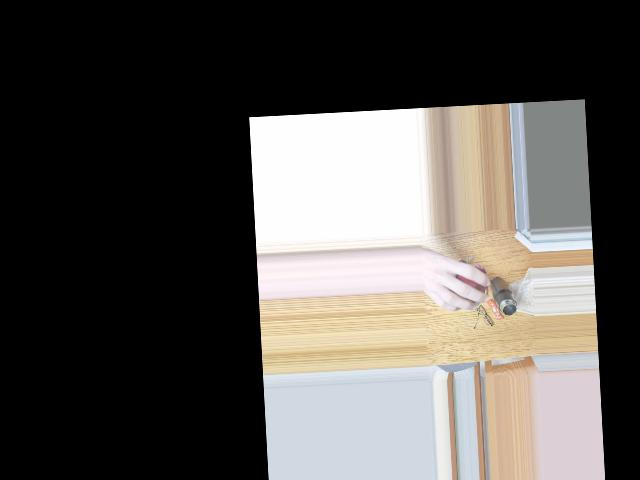onion: (447, 262, 482, 309)
